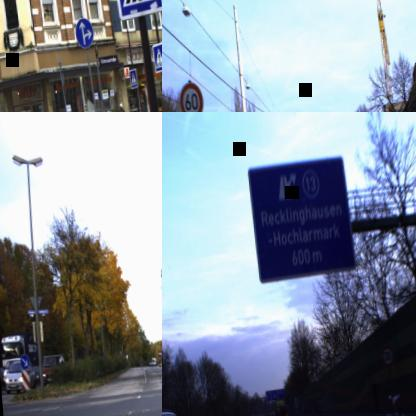go right: (74, 18, 95, 50)
keep right: (20, 353, 30, 370)
speed limit 120: (380, 344, 395, 368)
speed limit 60: (178, 81, 205, 112)
